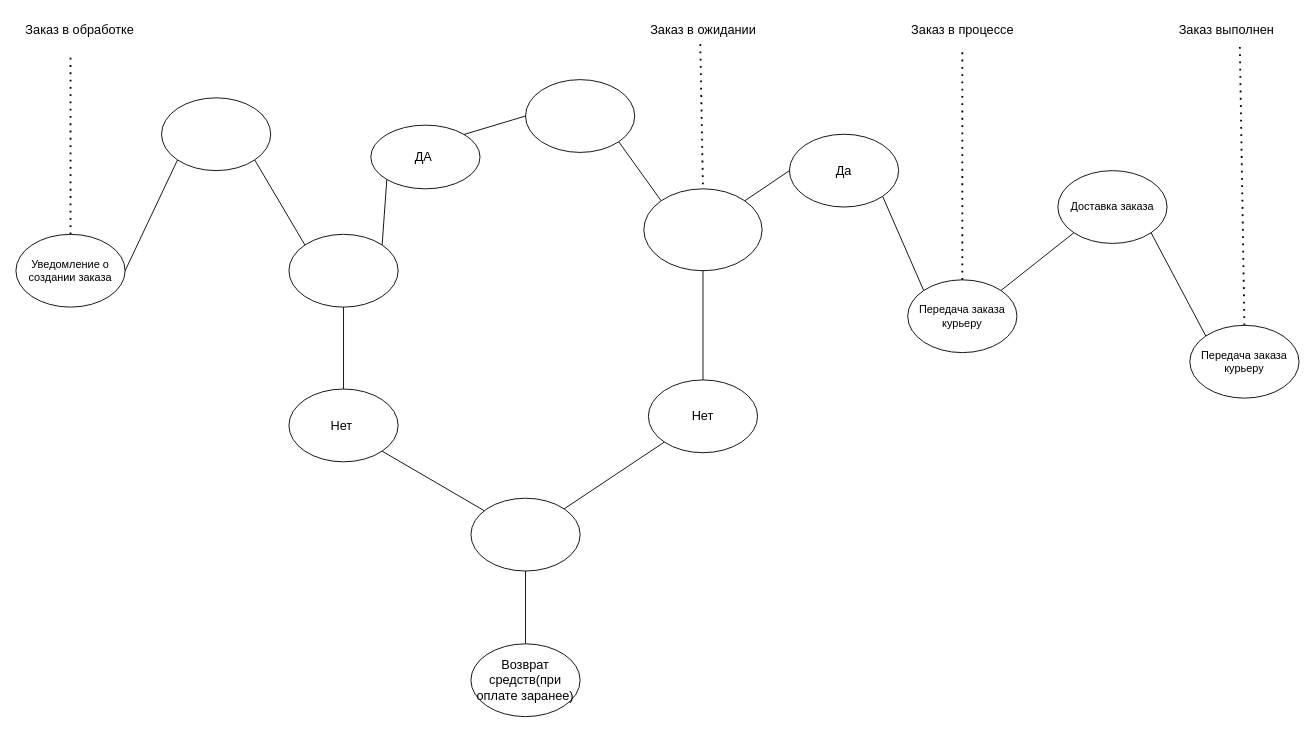
This 1315x733 diagram has some shape labels left out. Each missing label, with the centre of its shape:
"Время выполнения заказа" belongs at pixel 580 115.
"Готовность оформления заказа" belongs at pixel 216 134.
"Информации о возможности совершения заказа" belongs at pixel 343 270.
"Клиент согласен?" belongs at pixel 702 229.
"Отмена заказа" belongs at pixel 525 534.
